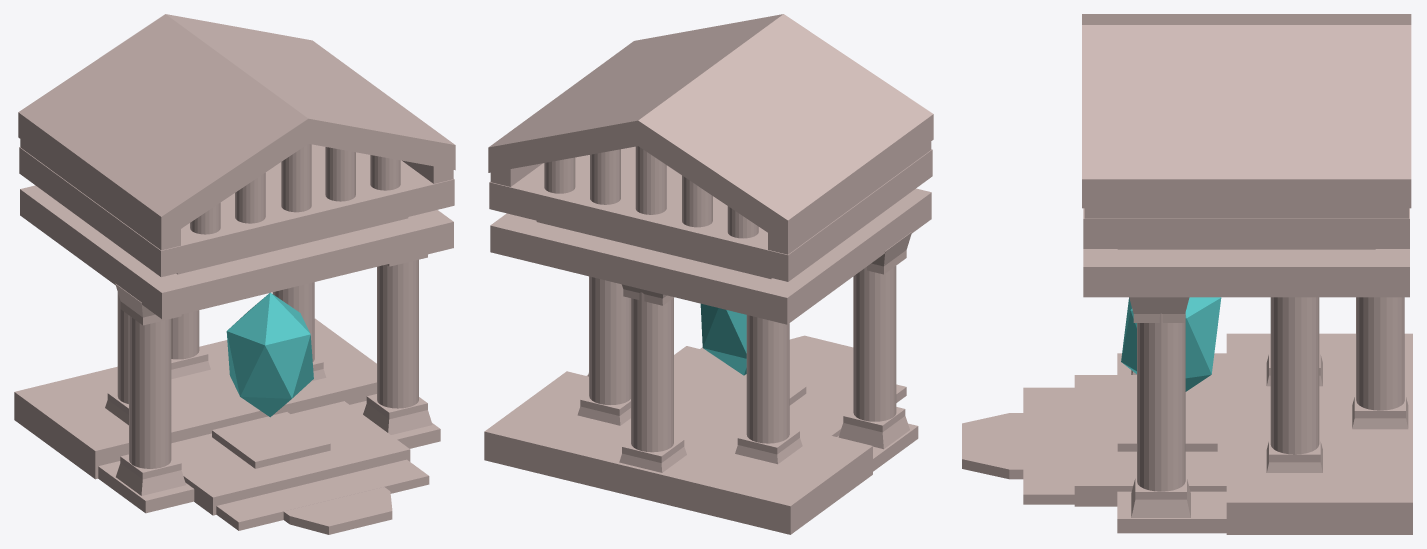
The model's file is Portal.fbx.
3 renders of one model, left to right at view 1: azimuth 30°, elevation 25°; view 2: azimuth 150°, elevation 25°; view 3: azimuth 270°, elevation 25°, orthographic. The views are drawn at different scales.
Visible parts, largest first — view 1: Спавн; view 2: Спавн; view 3: Спавн.
Part boxes in pixels (<box>): Спавн: <box>14,14,455,534</box>; Спавн: <box>484,14,933,534</box>; Спавн: <box>962,14,1412,534</box>.
Bounding box in the file's own units: 305 × 359 × 344.
